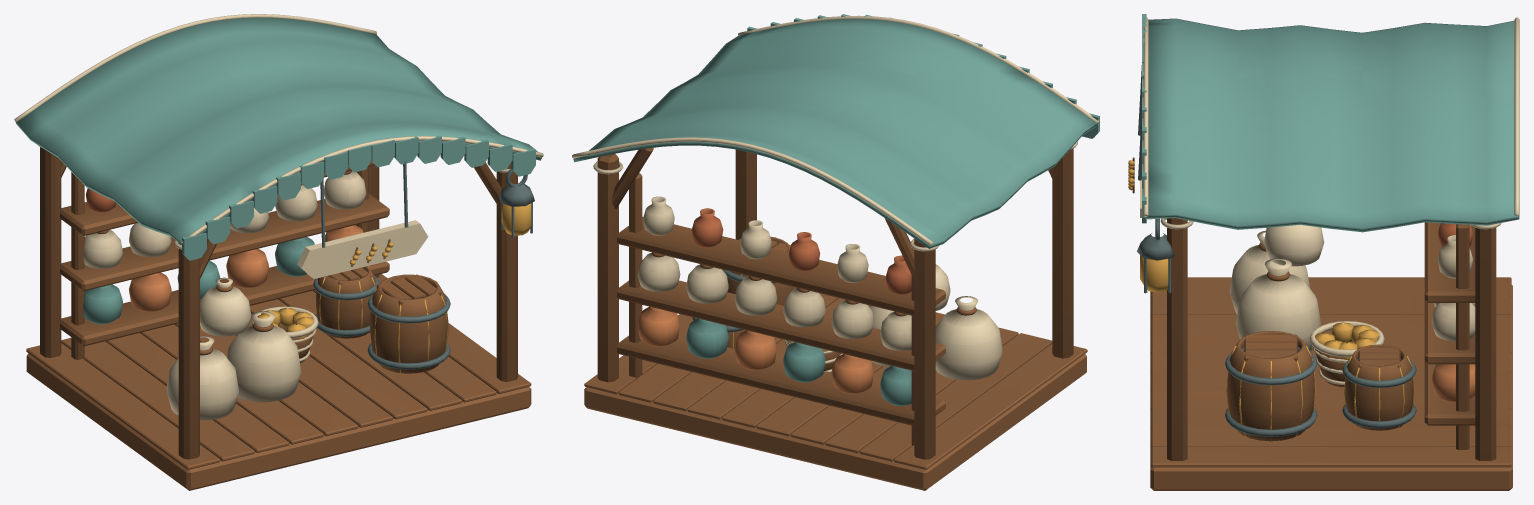
File: village-supplyYard.glb
3 views of the same model, side by side, from view 1: azimuth 30°, elevation 25°; view 2: azimuth 150°, elevation 25°; view 3: azimuth 270°, elevation 25° (orthographic). The views are drawn at different scales.
Visible parts, largest first — view 1: HERO_supplyYard_batch_timber, HERO_supplyYard_batch_canvas, HERO_supplyYard_batch_plaster, HERO_supplyYard_batch_iron, HERO_supplyYard_batch_tileLight, HERO_supplyYard_batch_brass; view 2: HERO_supplyYard_batch_timber, HERO_supplyYard_batch_canvas, HERO_supplyYard_batch_plaster, HERO_supplyYard_batch_tileLight, HERO_supplyYard_batch_tile; view 3: HERO_supplyYard_batch_canvas, HERO_supplyYard_batch_timber, HERO_supplyYard_batch_plaster, HERO_supplyYard_batch_iron, HERO_supplyYard_batch_brass, HERO_supplyYard_batch_tileLight.
Part boxes in pixels (x1=…): HERO_supplyYard_batch_timber: x1=26, y1=147, x2=531, y2=490; HERO_supplyYard_batch_canvas: x1=15, y1=17, x2=541, y2=324; HERO_supplyYard_batch_plaster: x1=14, y1=14, x2=543, y2=420; HERO_supplyYard_batch_iron: x1=313, y1=161, x2=534, y2=369; HERO_supplyYard_batch_tileLight: x1=129, y1=225, x2=363, y2=312; HERO_supplyYard_batch_brass: x1=257, y1=203, x2=531, y2=372; HERO_supplyYard_batch_timber: x1=584, y1=148, x2=1087, y2=490; HERO_supplyYard_batch_canvas: x1=573, y1=14, x2=1099, y2=405; HERO_supplyYard_batch_plaster: x1=572, y1=15, x2=1099, y2=380; HERO_supplyYard_batch_tileLight: x1=637, y1=306, x2=874, y2=394; HERO_supplyYard_batch_tile: x1=691, y1=208, x2=911, y2=294; HERO_supplyYard_batch_canvas: x1=1142, y1=14, x2=1519, y2=366; HERO_supplyYard_batch_timber: x1=1132, y1=157, x2=1512, y2=490; HERO_supplyYard_batch_plaster: x1=1140, y1=17, x2=1519, y2=384; HERO_supplyYard_batch_iron: x1=1137, y1=65, x2=1416, y2=436; HERO_supplyYard_batch_brass: x1=1128, y1=160, x2=1414, y2=440; HERO_supplyYard_batch_tileLight: x1=1431, y1=364, x2=1475, y2=402.
Bounding box in the file's own units: 4.46 × 3.63 × 3.76.
